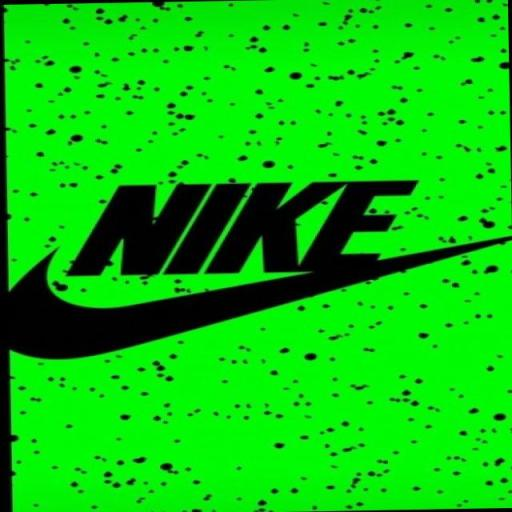Nike: (8, 259, 423, 361), (66, 176, 425, 279)
